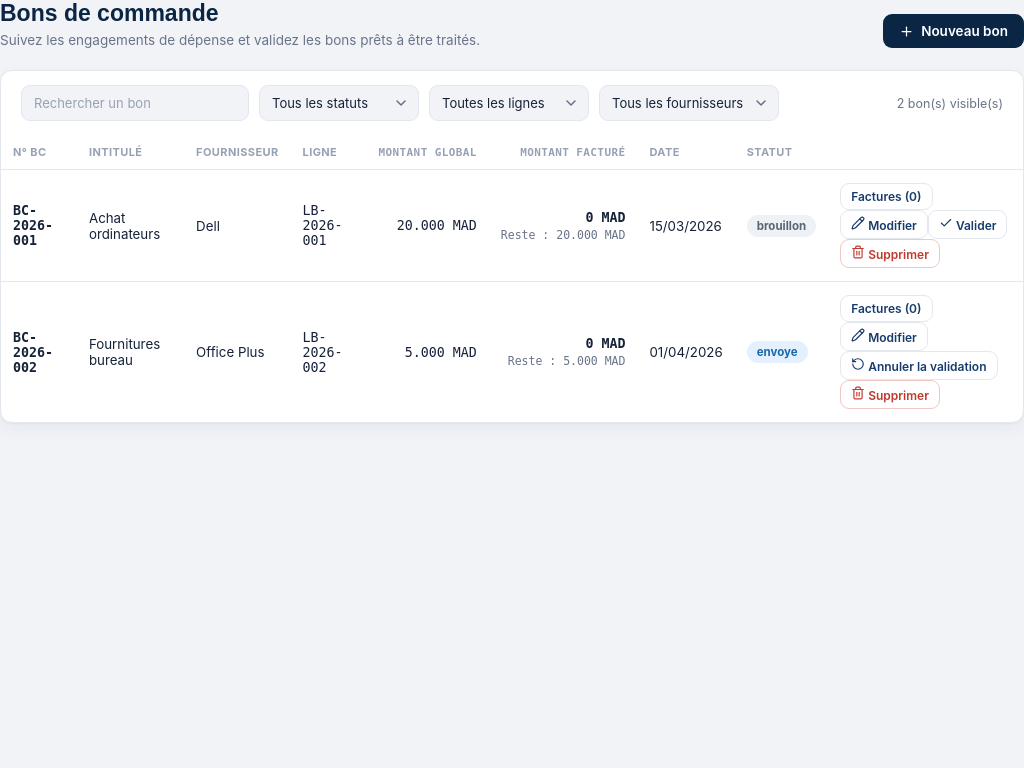
Test: BonsCommande › ouvre la modale avec un numéro de BC généré automatiquement
Expected: the text "BC-2026-001" is shown, [13,203,53,248]
Click the button "Nouveau bon" at [954, 31], box [883,14,1023,48]
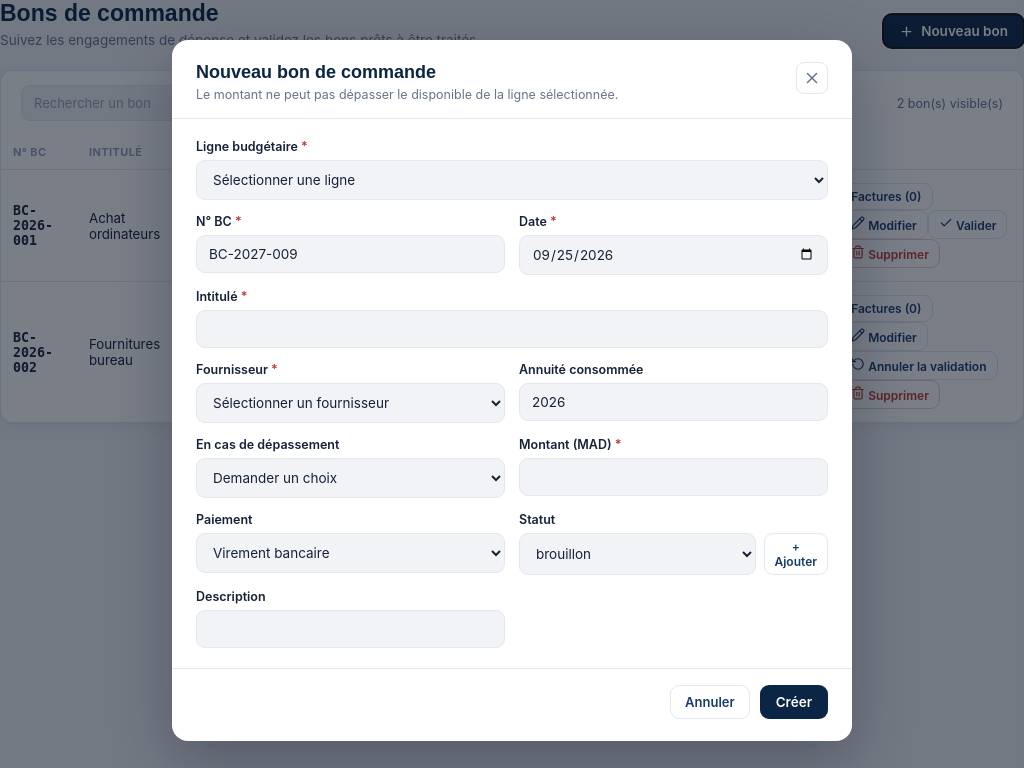
Expected: the 1st field showing "BC-2027-009" is shown, [196,235,505,273]
